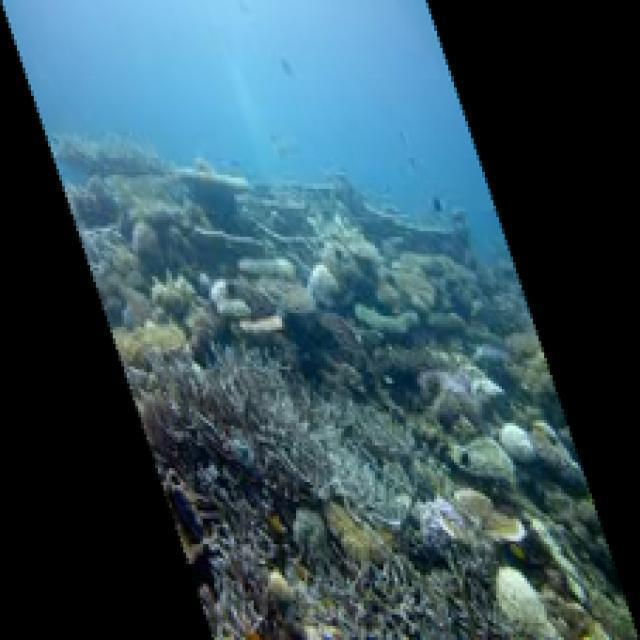Dead Coral: (142, 323, 412, 499), (347, 550, 498, 640)
